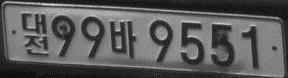1: (239, 25, 264, 68)
5: (179, 21, 205, 65), (210, 23, 235, 68)
9: (80, 15, 105, 58), (51, 14, 76, 56), (149, 19, 173, 62)
대전_V: (21, 12, 49, 56)
바: (109, 20, 136, 58)
